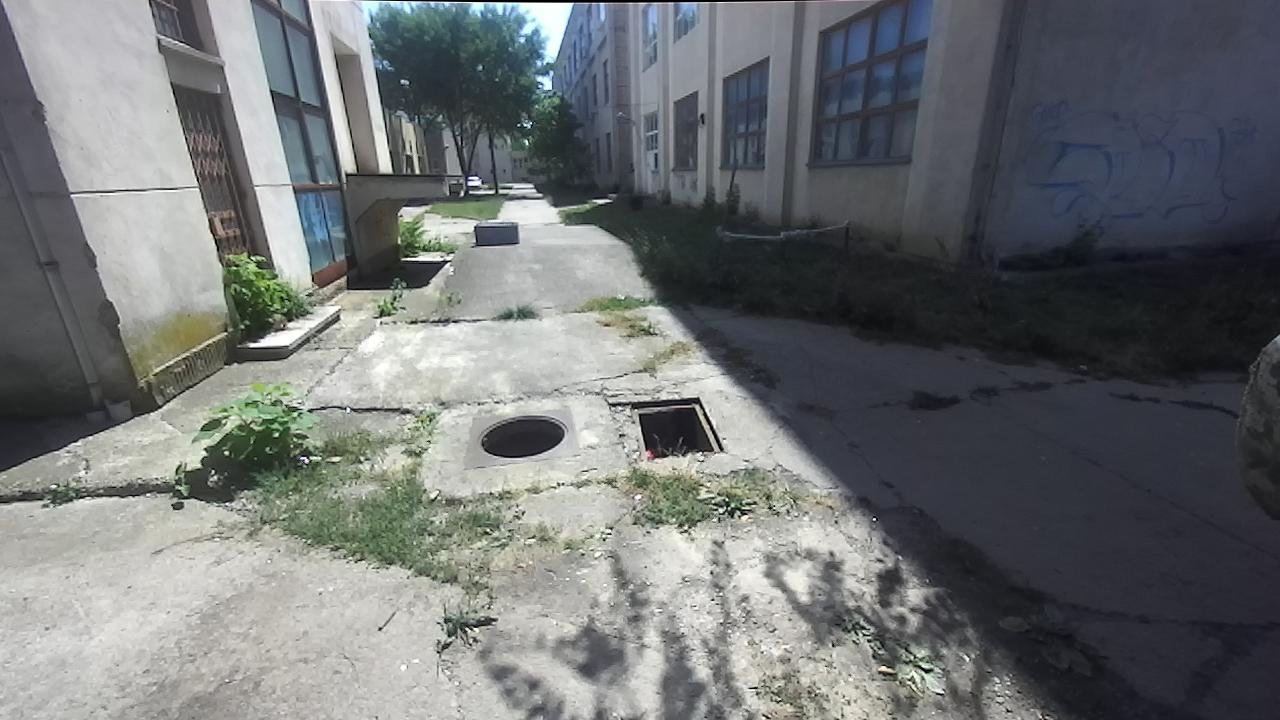drain: (606, 397, 730, 457), (473, 414, 572, 458)
